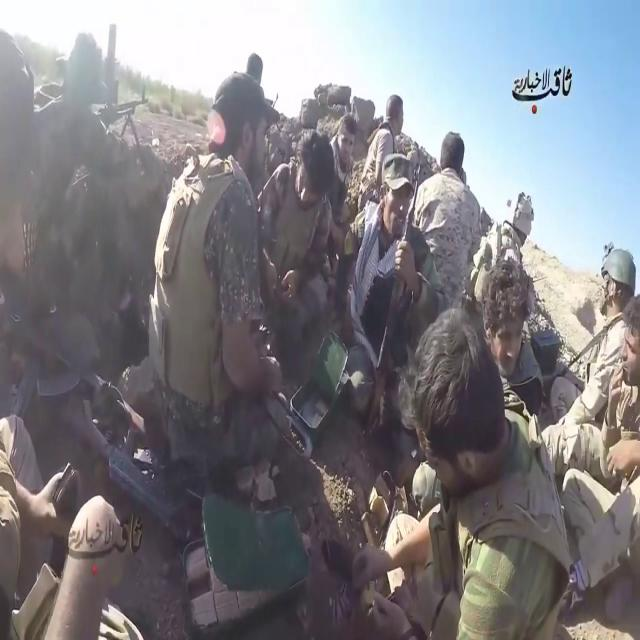long weapon: (66, 412, 210, 566), (358, 145, 426, 438)
